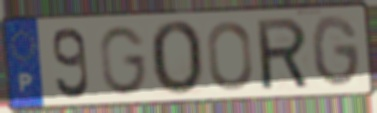9: (50, 26, 90, 100)
G: (309, 13, 363, 90), (97, 24, 150, 97)
O: (147, 18, 204, 98), (205, 19, 255, 93)
R: (253, 15, 312, 93)
